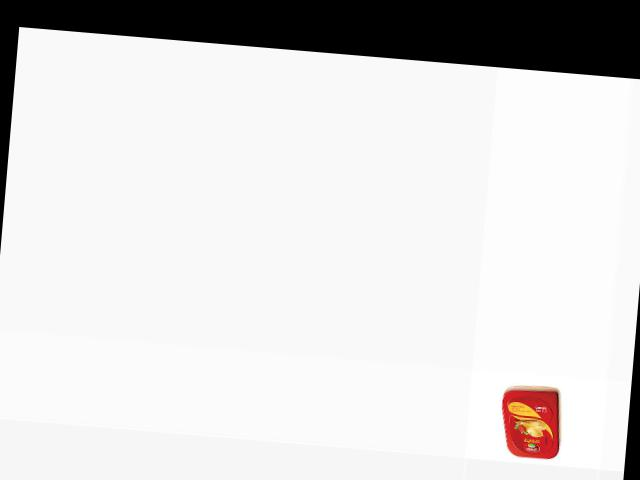cheese: (497, 383, 566, 464)
